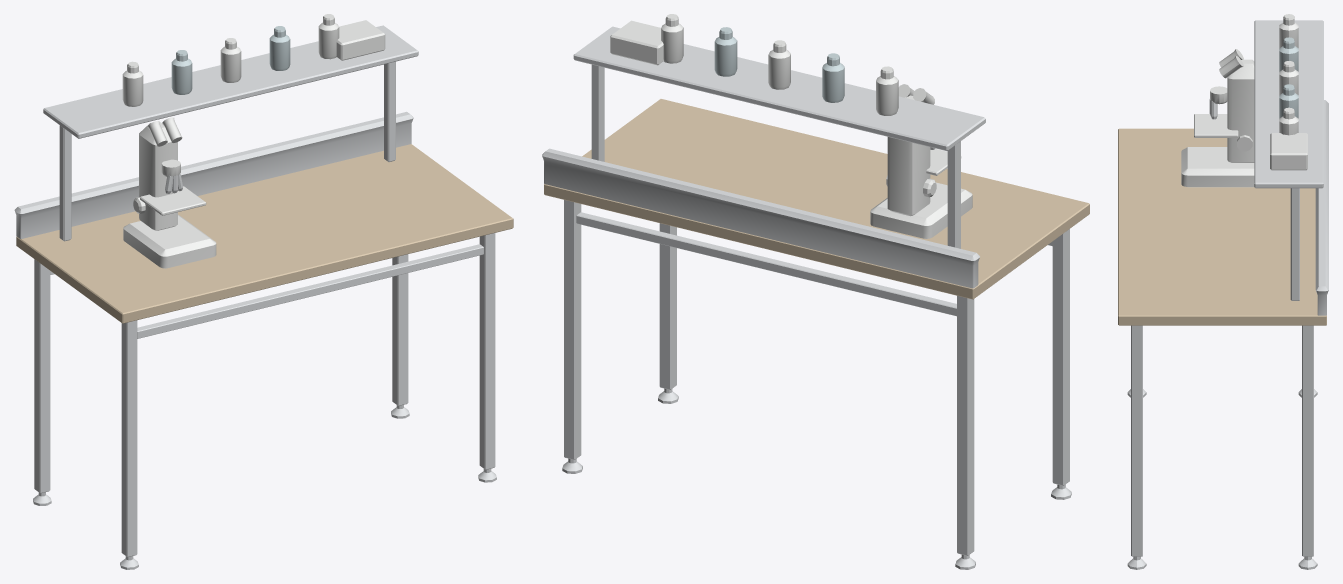
Rendered from clinic-and-veterinary-practice-lab-bench-microscope-a94b071e__16801.glb.
The picture shows the model from 3 angles, left to right: view 1: azimuth 30°, elevation 25°; view 2: azimuth 150°, elevation 25°; view 3: azimuth 270°, elevation 25°; orthographic projection. The views are drawn at different scales.
Visible parts, largest first — view 1: lab-bench-microscope; view 2: lab-bench-microscope; view 3: lab-bench-microscope.
Boxes of the visible parts, x1,y1,x2,y2 form: lab-bench-microscope: [14, 14, 513, 569]; lab-bench-microscope: [542, 14, 1089, 569]; lab-bench-microscope: [1118, 14, 1328, 569].
Size of the model in its own units: 1.41 by 1.45 by 0.6659.
